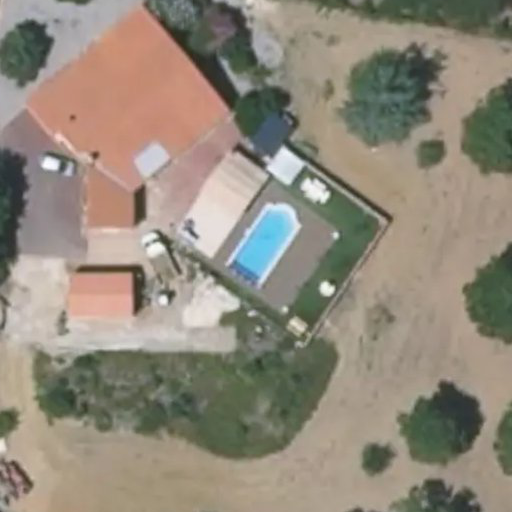pool: (226, 203, 300, 286)
